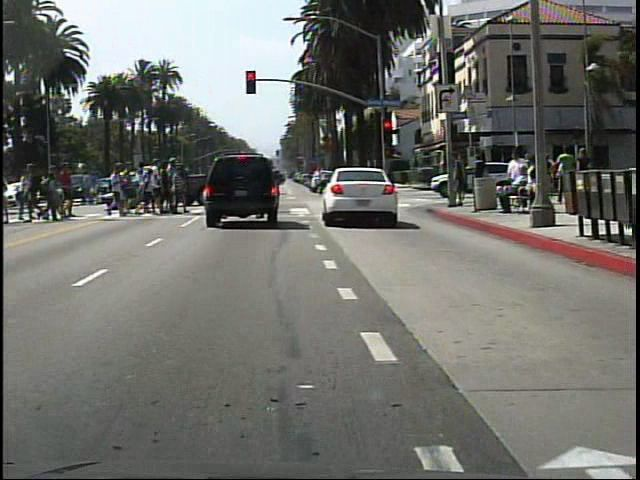person: (496, 162, 531, 216)
